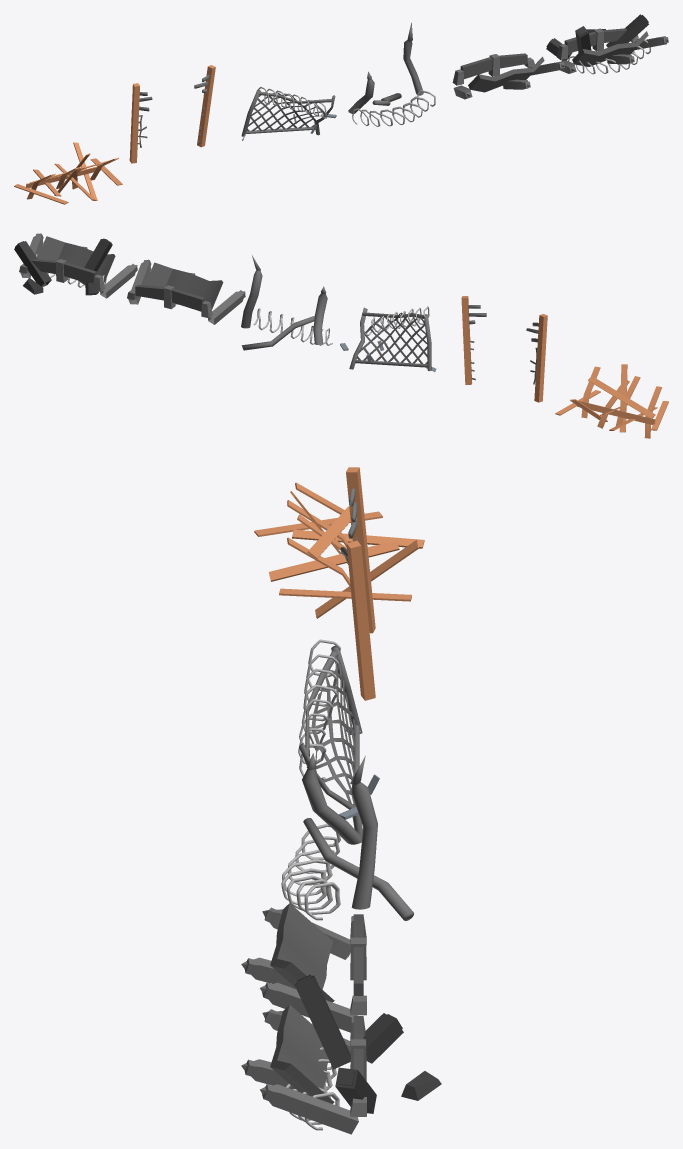
The model's file is broken_fences_tiers.fbx.
3 views of the same model, one above another, from view 1: azimuth 30°, elevation 25°; view 2: azimuth 150°, elevation 25°; view 3: azimuth 270°, elevation 25° (orthographic). The views are drawn at different scales.
Visible parts, largest first — view 1: broken_fence_t6, broken_fence_t5, broken_fence_t3, broken_fence_t1, broken_fence_t4, broken_fence_t2; view 2: broken_fence_t6, broken_fence_t5, broken_fence_t1, broken_fence_t3, broken_fence_t4, broken_fence_t2; view 3: broken_fence_t6, broken_fence_t5, broken_fence_t4, broken_fence_t1, broken_fence_t3, broken_fence_t2.
Part boxes in pixels (x1=…): broken_fence_t6: x1=546, y1=14, x2=668, y2=74; broken_fence_t5: x1=452, y1=53, x2=564, y2=99; broken_fence_t3: x1=241, y1=87, x2=336, y2=140; broken_fence_t1: x1=14, y1=142, x2=122, y2=204; broken_fence_t4: x1=348, y1=22, x2=435, y2=126; broken_fence_t2: x1=129, y1=65, x2=215, y2=163; broken_fence_t6: x1=14, y1=233, x2=137, y2=298; broken_fence_t5: x1=127, y1=259, x2=245, y2=324; broken_fence_t1: x1=555, y1=364, x2=668, y2=438; broken_fence_t3: x1=340, y1=306, x2=436, y2=371; broken_fence_t4: x1=241, y1=255, x2=332, y2=350; broken_fence_t2: x1=461, y1=296, x2=547, y2=402; broken_fence_t6: x1=241, y1=974, x2=441, y2=1134; broken_fence_t5: x1=241, y1=903, x2=366, y2=1032; broken_fence_t4: x1=281, y1=753, x2=413, y2=920; broken_fence_t1: x1=254, y1=482, x2=424, y2=618; broken_fence_t3: x1=298, y1=639, x2=379, y2=837; broken_fence_t2: x1=340, y1=467, x2=375, y2=700.
Size of the model in its own units: 1746 by 262 by 242.
5 materials, 4 textured.
